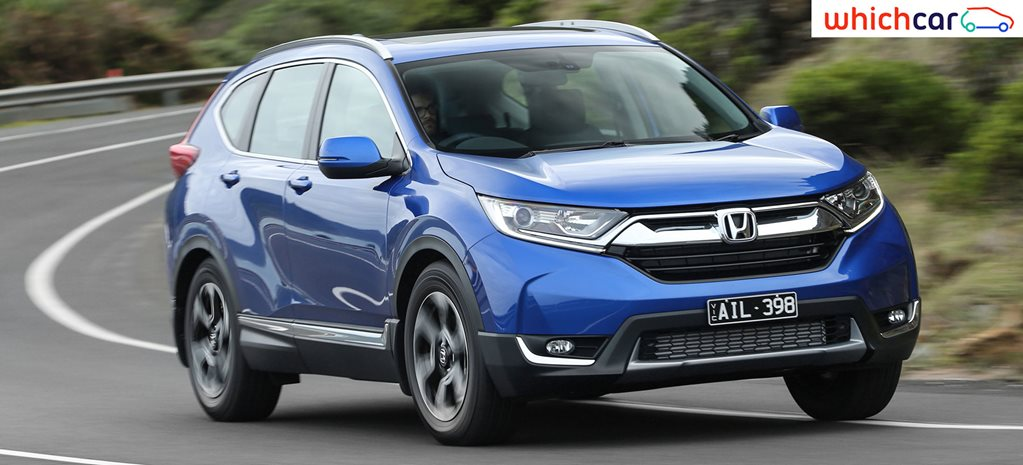crv: (149, 14, 933, 448)
